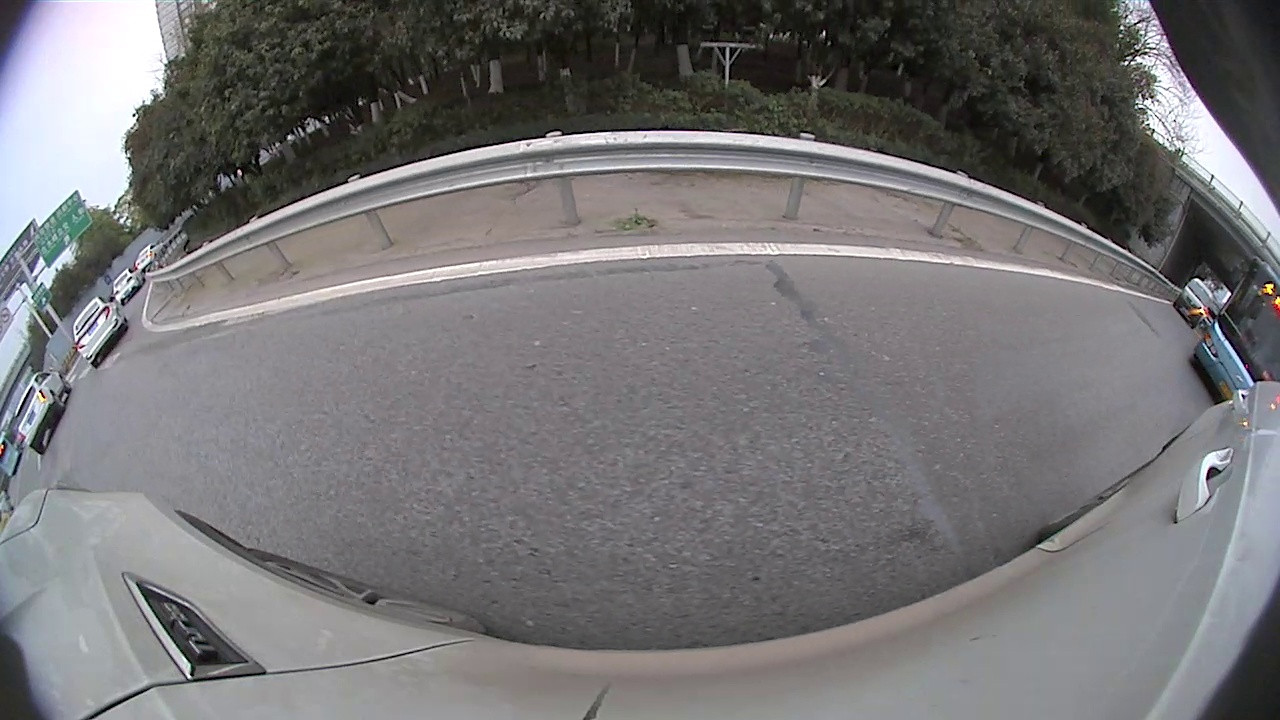bus: (742, 3, 1218, 359)
car: (185, 109, 348, 216), (1206, 401, 1257, 496)
front: (262, 160, 292, 195)
rear: (1054, 281, 1120, 352), (196, 191, 225, 222)
